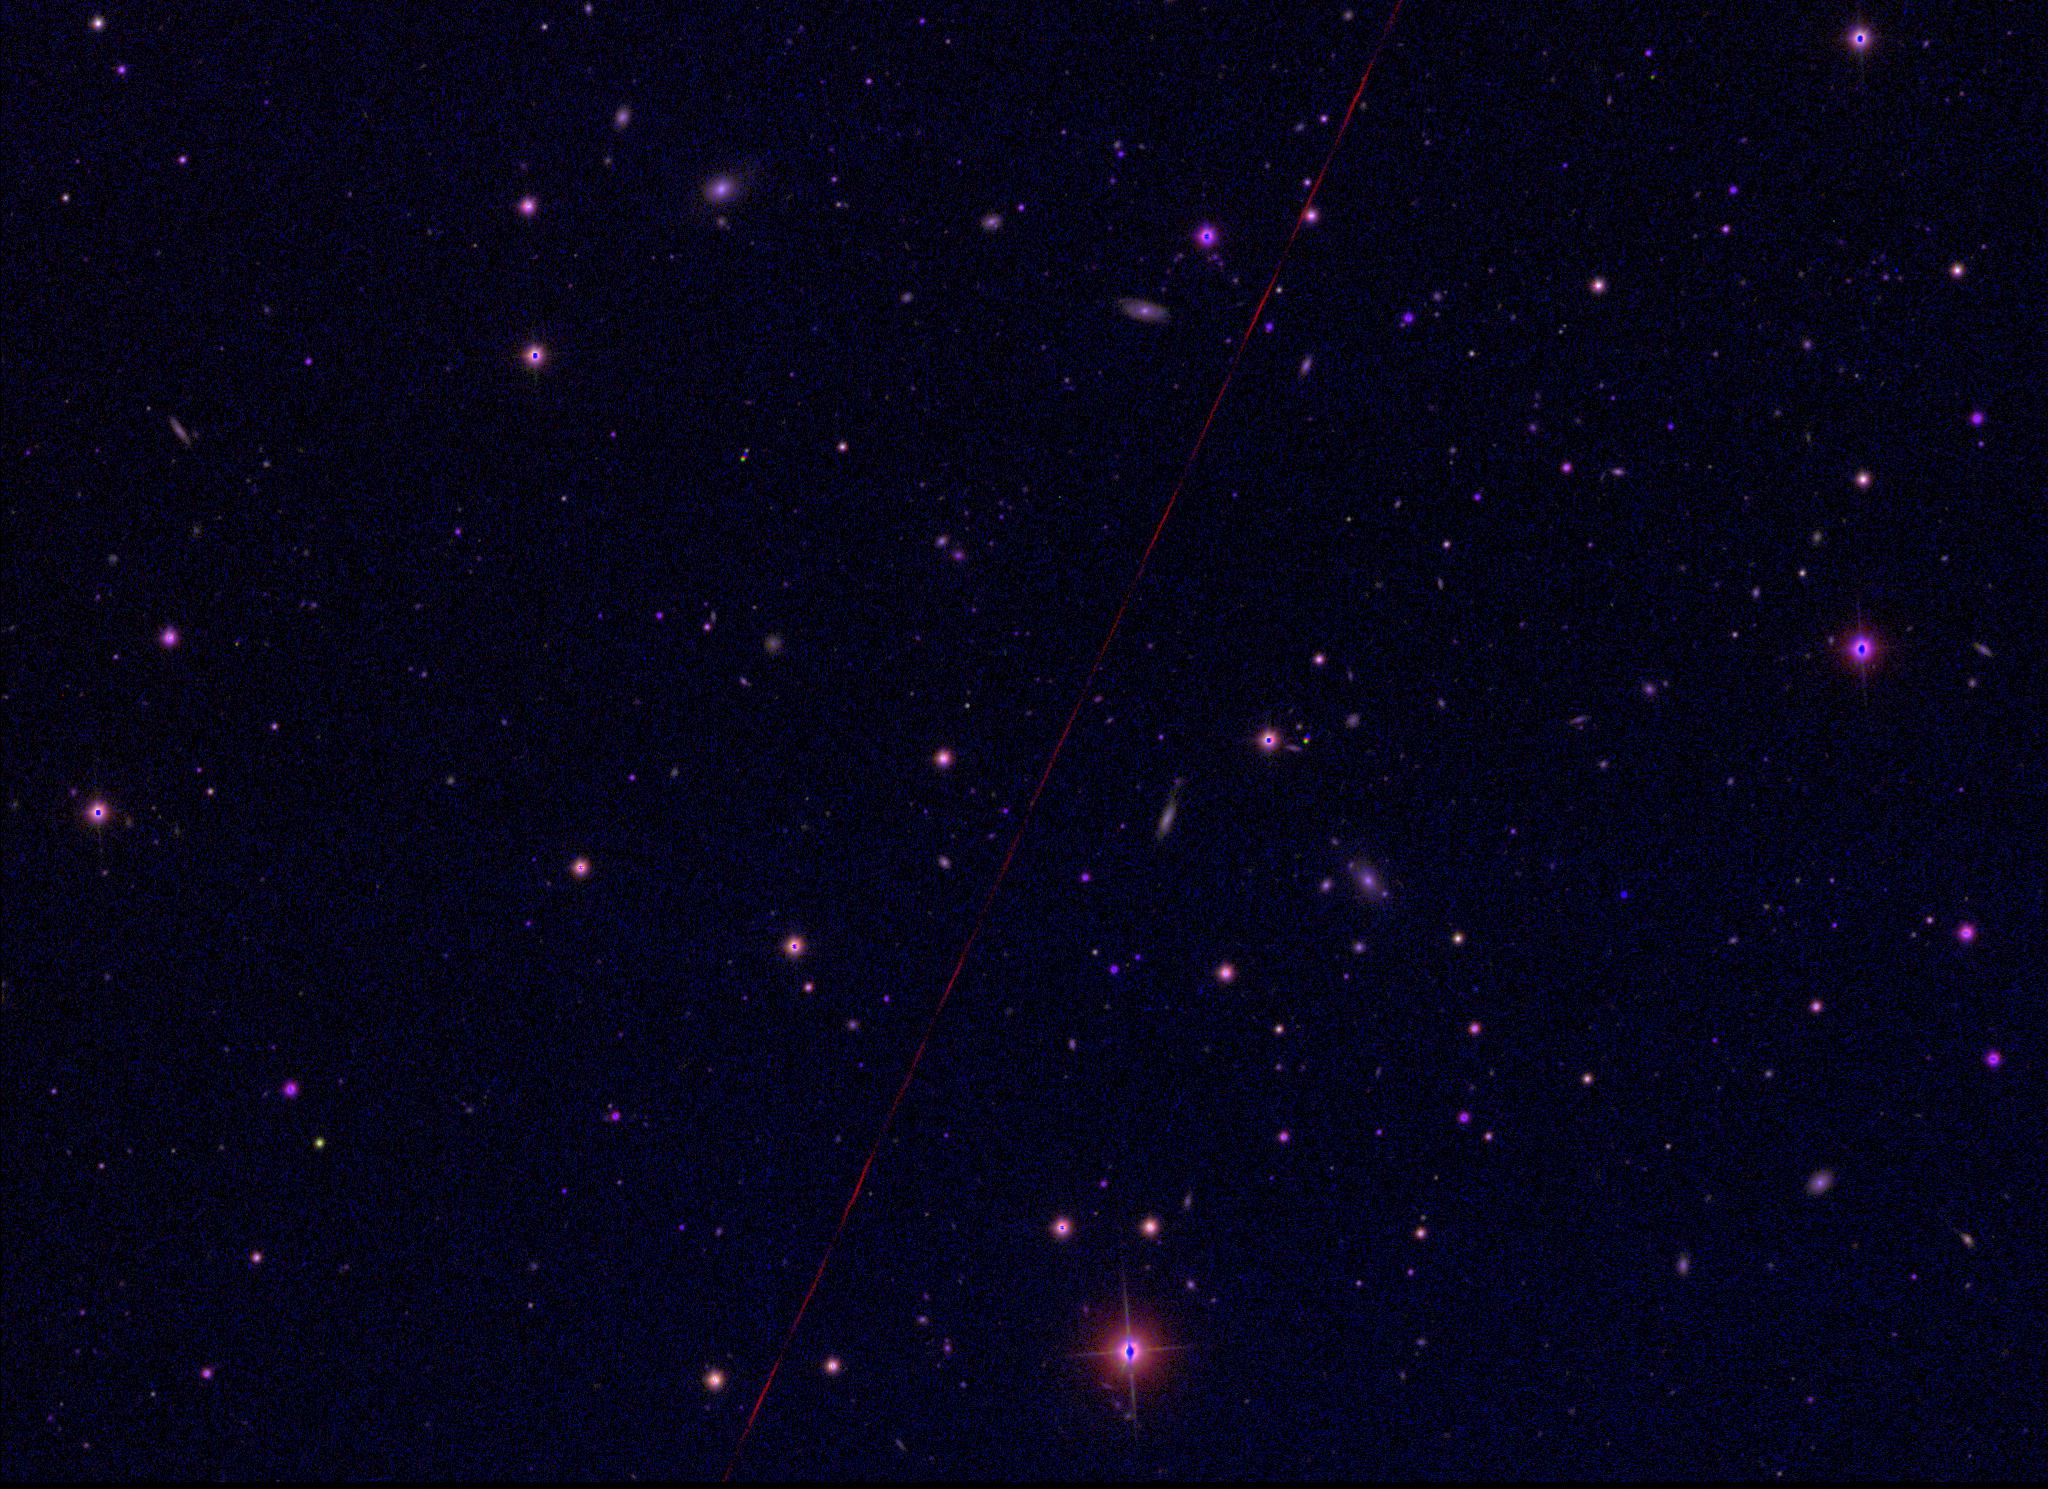L: (1616, 886, 1628, 900)
